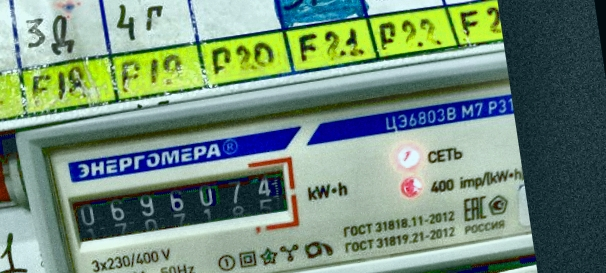0: (75, 200, 97, 226), (195, 180, 214, 207)
4: (252, 172, 271, 196)
5: (257, 196, 275, 214)
6: (166, 184, 187, 213), (106, 195, 126, 222)
7: (225, 177, 245, 204)
9: (136, 190, 155, 218)
screen: (56, 151, 303, 254)
